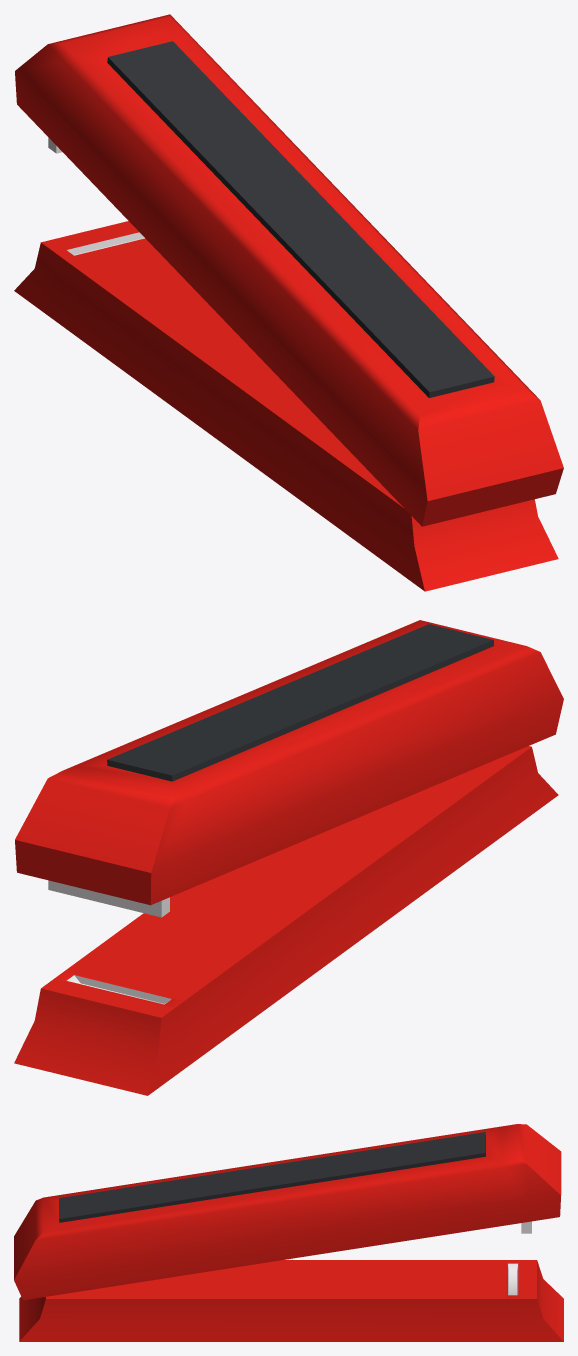
File: zimba.fbx
3 renders of one model, top to bottom at view 1: azimuth 30°, elevation 25°; view 2: azimuth 150°, elevation 25°; view 3: azimuth 270°, elevation 25°, orthographic. The views are drawn at different scales.
Parts seen in each view (by area): view 1: Staple_; view 2: Staple_; view 3: Staple_.
Part boxes in pixels (box(x1,y1,x2,y2)): Staple_: box(14, 14, 563, 591); Staple_: box(14, 620, 563, 1095); Staple_: box(14, 1124, 563, 1341).
Size of the model in its own units: 14.58 by 27.6 by 76.83.
